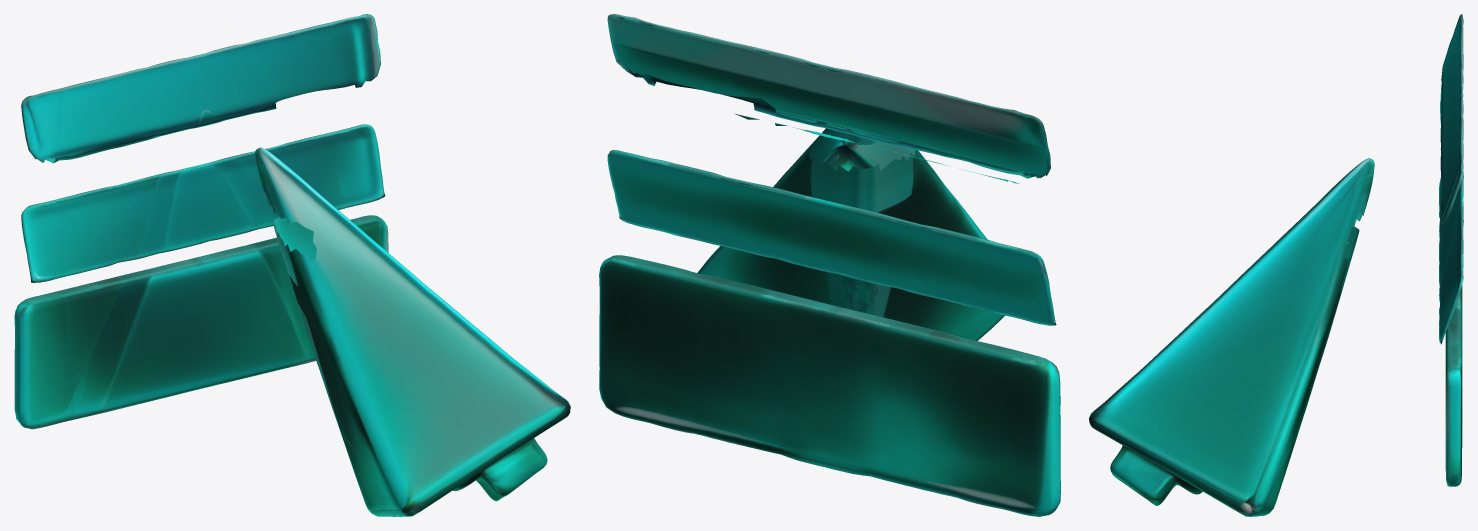
Rendered from mouse.glb.
3 views of the same model, side by side, from view 1: azimuth 30°, elevation 25°; view 2: azimuth 150°, elevation 25°; view 3: azimuth 270°, elevation 25° (orthographic). The views are drawn at different scales.
Visible parts, largest first — view 1: Mesh_0; view 2: Mesh_0; view 3: Mesh_0.
Boxes of the visible parts, <box> form: Mesh_0: <box>14,14,570,516</box>; Mesh_0: <box>599,14,1060,516</box>; Mesh_0: <box>1089,14,1463,516</box>.
Bounding box in the file's own units: 2.01 × 1.89 × 1.66.
1 material, 1 textured.
